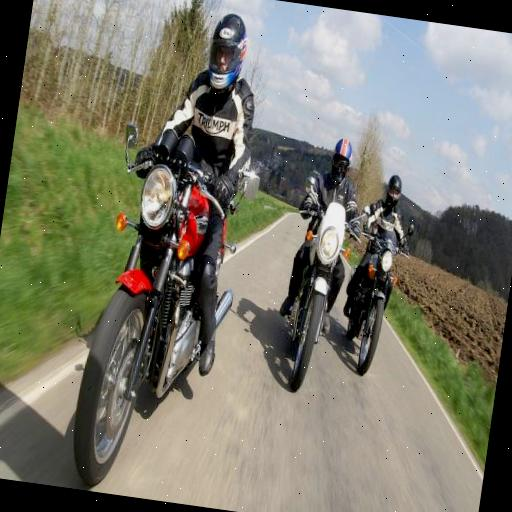helmet: (78, 1, 268, 423), (248, 107, 373, 402), (342, 166, 420, 408)
